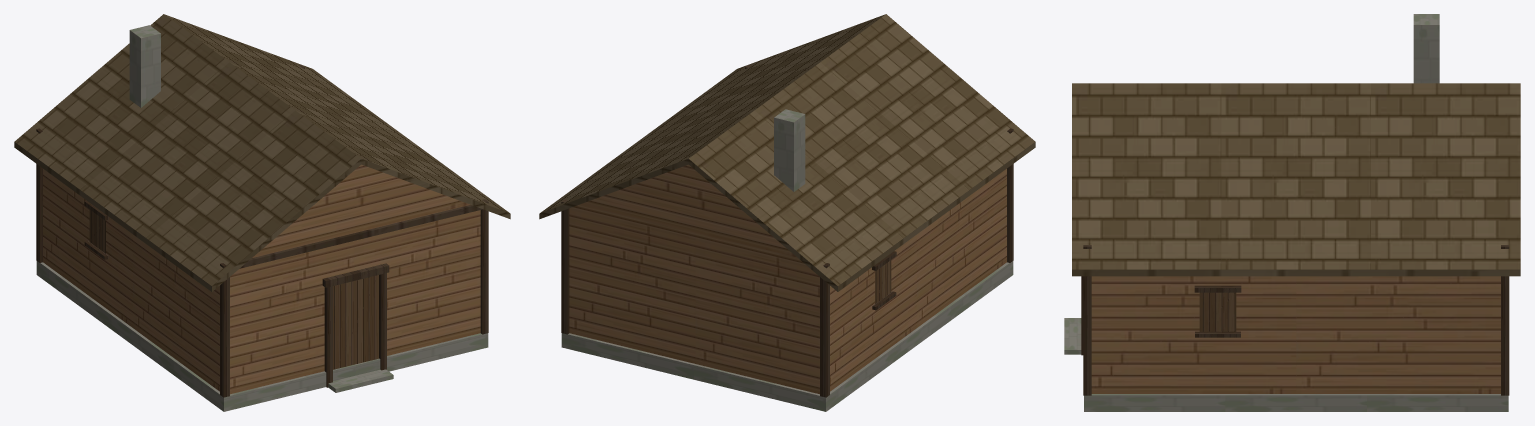
File: ae_forest_wood_large_barn_lod0.glb
The picture shows the model from 3 angles, left to right: view 1: azimuth 30°, elevation 25°; view 2: azimuth 150°, elevation 25°; view 3: azimuth 270°, elevation 25°; orthographic projection. The views are drawn at different scales.
Visible parts, largest first — view 1: ae_forest_wood_large_barn_lod0; view 2: ae_forest_wood_large_barn_lod0; view 3: ae_forest_wood_large_barn_lod0.
Part boxes in pixels (x1=…): ae_forest_wood_large_barn_lod0: x1=14, y1=14, x2=510, y2=411; ae_forest_wood_large_barn_lod0: x1=539, y1=14, x2=1035, y2=411; ae_forest_wood_large_barn_lod0: x1=1064, y1=14, x2=1520, y2=411.
Size of the model in its own units: 7.5 by 6.05 by 8.75.
Materials: 1 (1 with a texture image).
